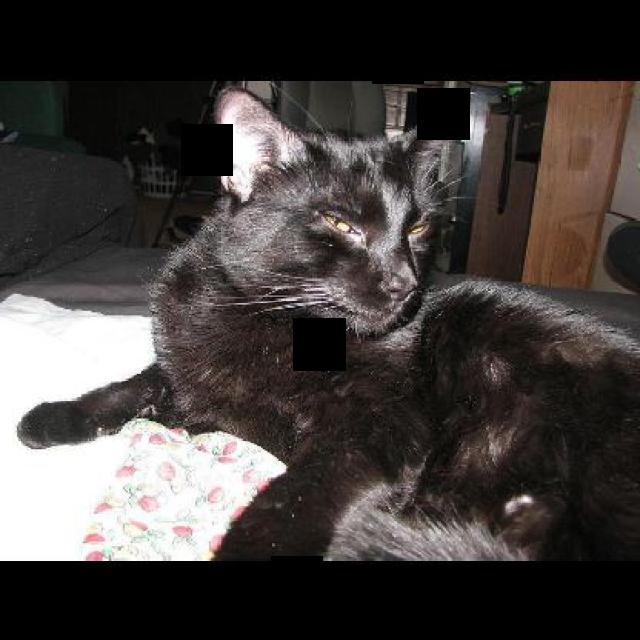unauthorized: (16, 85, 638, 560)
